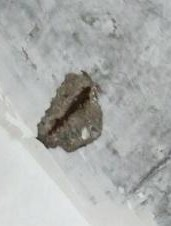Exposed reinforcement: (45, 85, 93, 138)
Spalling: (35, 69, 104, 153)
